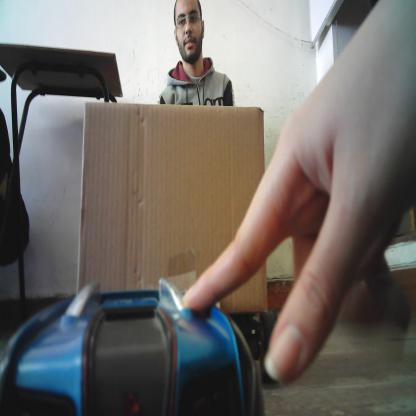LeadTruck: (76, 99, 284, 390)
